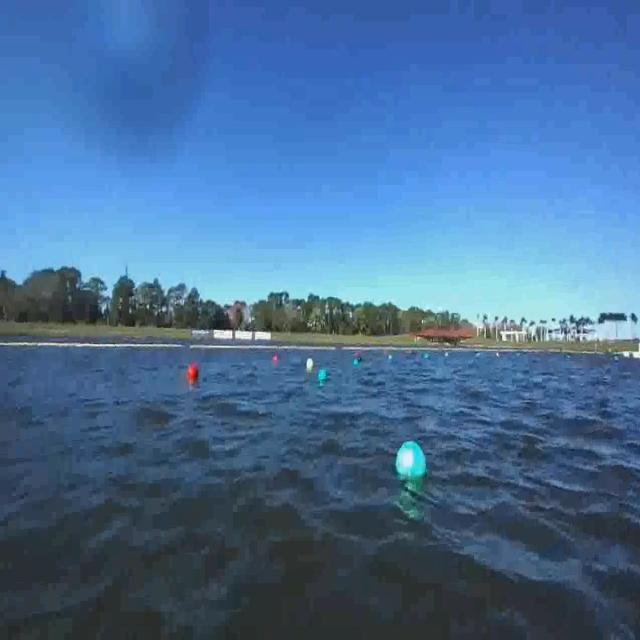green-buoy: (396, 441, 428, 482), (317, 367, 328, 381)
red-buoy: (185, 359, 202, 384)
yellow-buoy: (305, 358, 312, 371)
